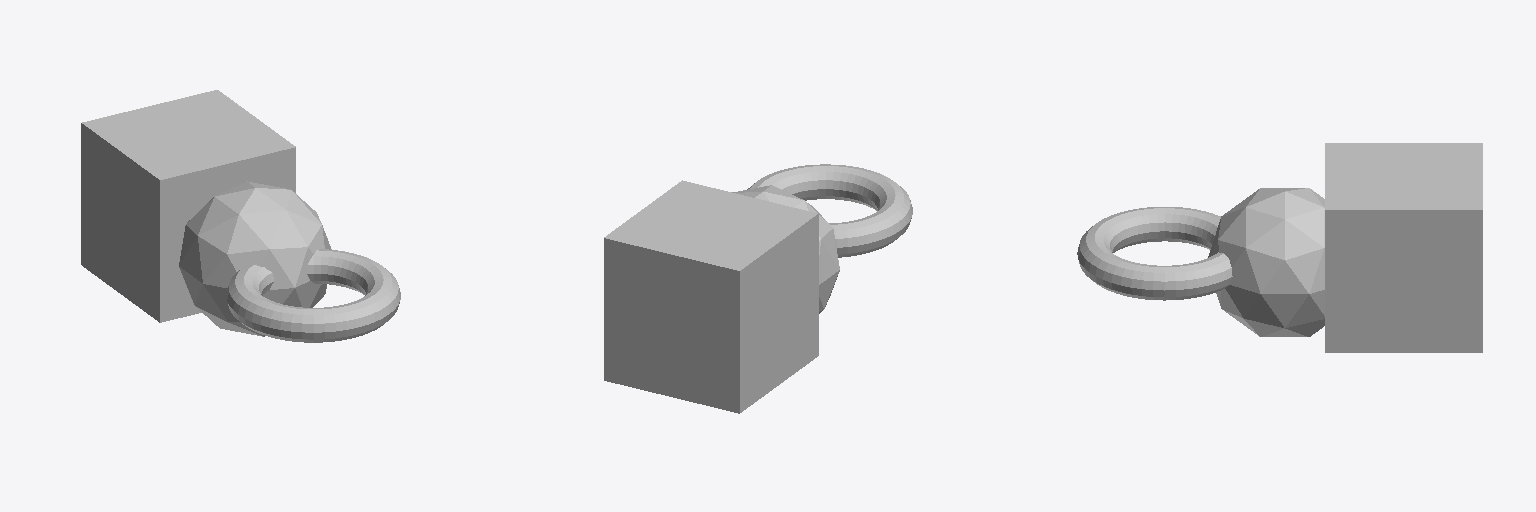
File: figures1.obj
The picture shows the model from 3 angles: view 1: azimuth 30°, elevation 25°; view 2: azimuth 150°, elevation 25°; view 3: azimuth 270°, elevation 25°; orthographic projection.
Parts seen in each view (by area): view 1: Cube, Icosphere, Torus; view 2: Cube, Torus, Icosphere; view 3: Cube, Icosphere, Torus.
Boxes of the visible parts, <box> form: Cube: <box>81,90,295,322</box>; Icosphere: <box>179,181,331,336</box>; Torus: <box>226,249,400,342</box>; Cube: <box>604,180,818,413</box>; Torus: <box>747,164,912,257</box>; Icosphere: <box>732,185,839,313</box>; Cube: <box>1325,143,1482,352</box>; Icosphere: <box>1208,188,1324,336</box>; Torus: <box>1077,207,1232,300</box>.
Size of the model in its own units: 2.22 by 2.16 by 5.15.